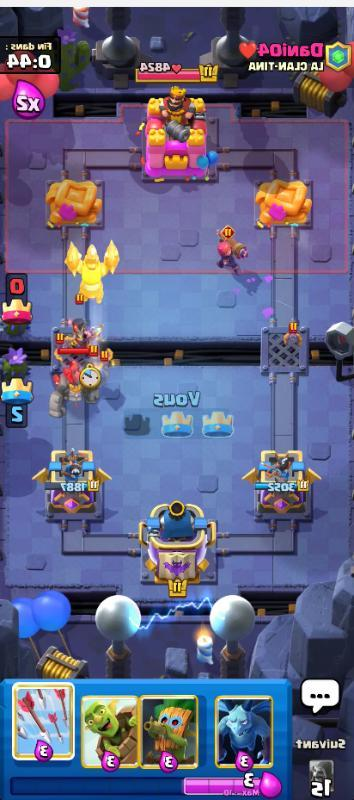enemy_bats: (280, 322, 307, 349)
enemy_evo_firecracker: (209, 220, 258, 281)
enemy_golem: (47, 356, 102, 420)
enemy_mega_knight: (60, 236, 124, 307)
enemy_night_witch: (68, 311, 105, 348)
